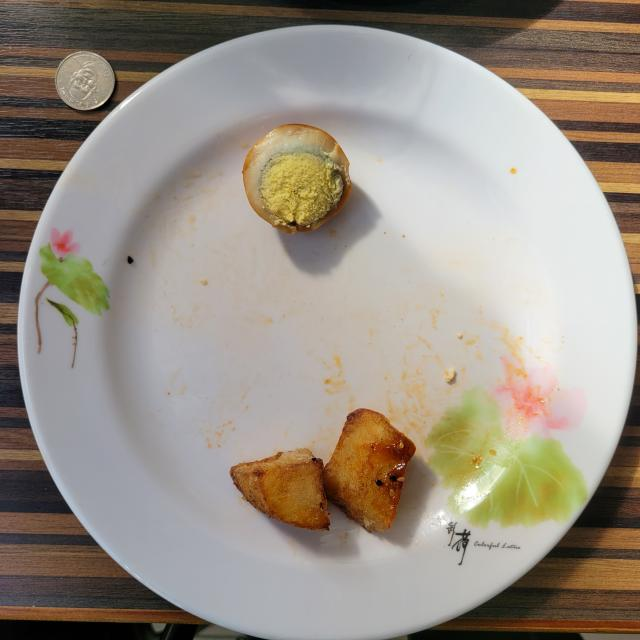coin: (55, 51, 115, 111)
fried potato: (230, 409, 416, 531)
soy egg: (242, 124, 351, 234)
